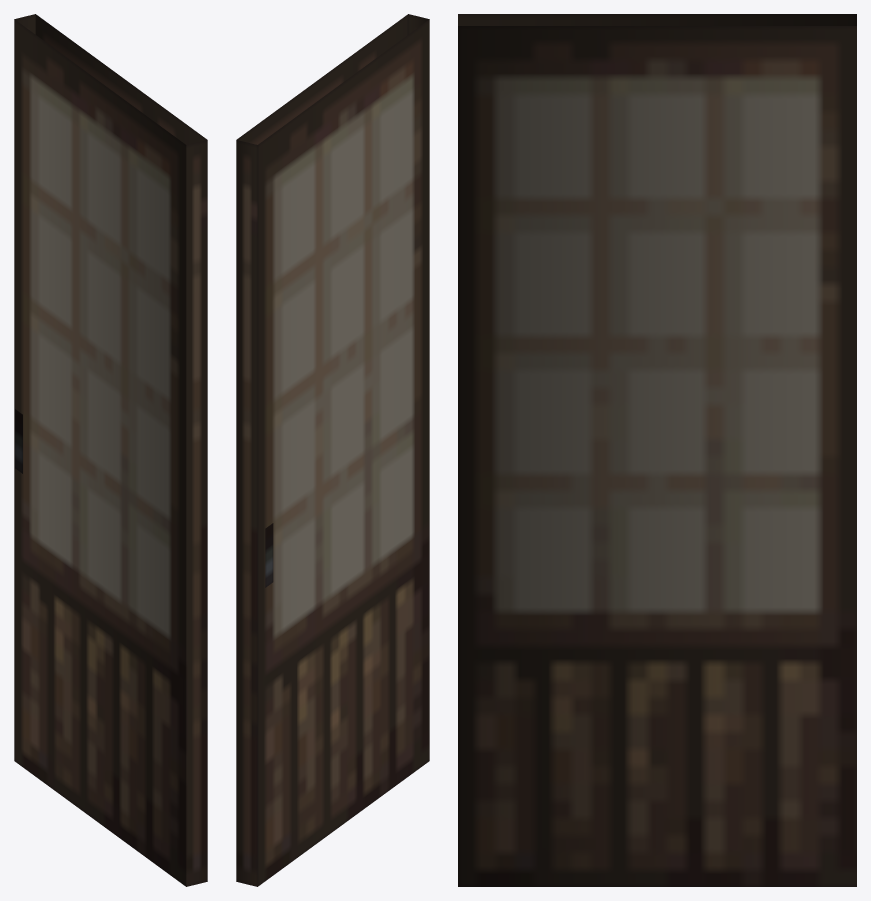
The model's file is EnvBdgMD_Desert_Dojo_A_Syouji_R.FBX.
3 renders of one model, left to right at view 1: azimuth 30°, elevation 25°; view 2: azimuth 150°, elevation 25°; view 3: azimuth 270°, elevation 25°, orthographic. The views are drawn at different scales.
Parts seen in each view (by area): view 1: EnvBdgMD_Desert_Dojo_A_Syouji_R; view 2: EnvBdgMD_Desert_Dojo_A_Syouji_R; view 3: EnvBdgMD_Desert_Dojo_A_Syouji_R.
Part boxes in pixels (left/top/right/bottom): EnvBdgMD_Desert_Dojo_A_Syouji_R: left=14, top=14, right=207, bottom=886; EnvBdgMD_Desert_Dojo_A_Syouji_R: left=236, top=14, right=429, bottom=886; EnvBdgMD_Desert_Dojo_A_Syouji_R: left=458, top=14, right=856, bottom=886.
Bounding box in the file's own units: 8.75 × 250 × 105.
